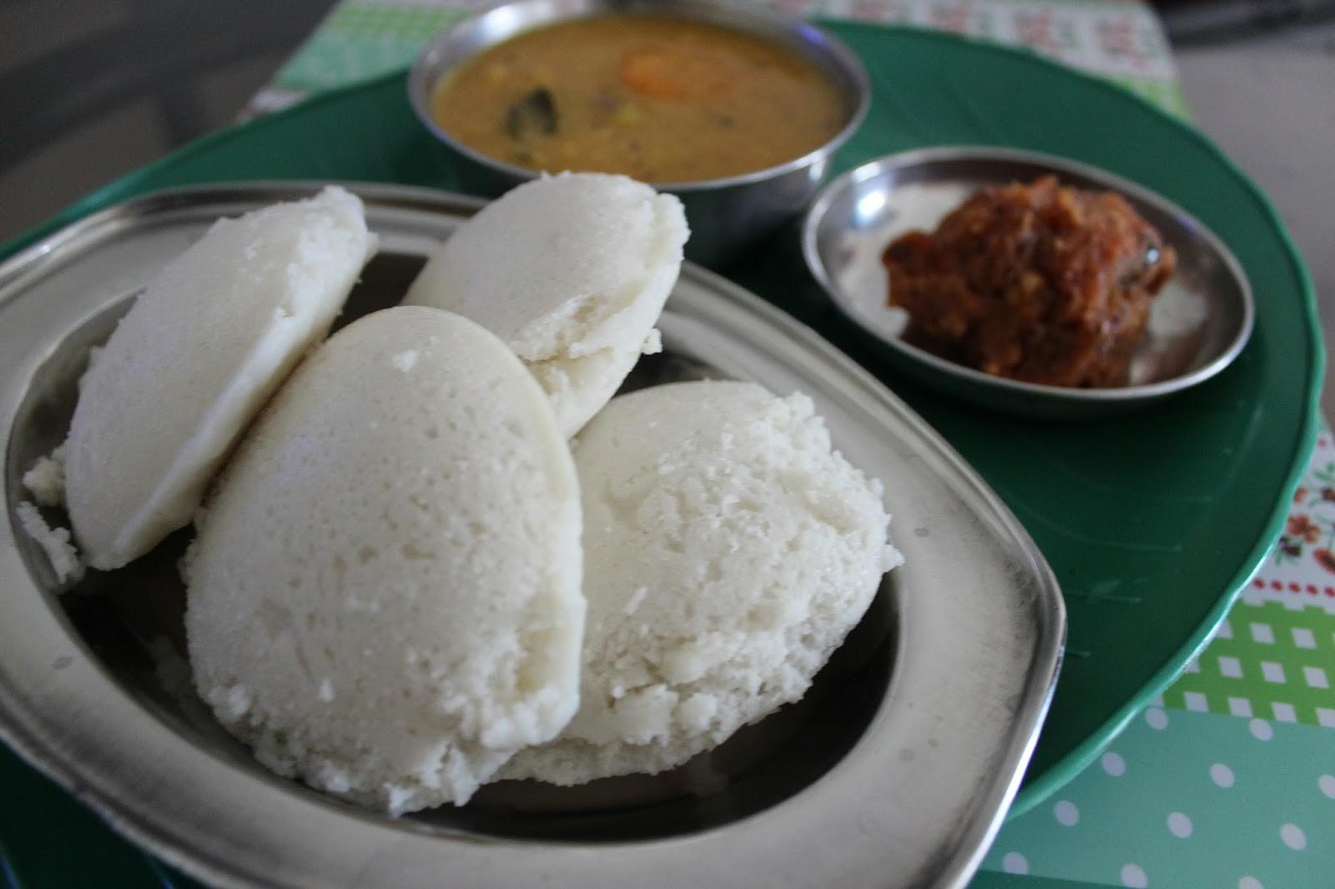Idli: (185, 303, 585, 816), (503, 376, 898, 787), (60, 187, 369, 578), (409, 171, 695, 438)
